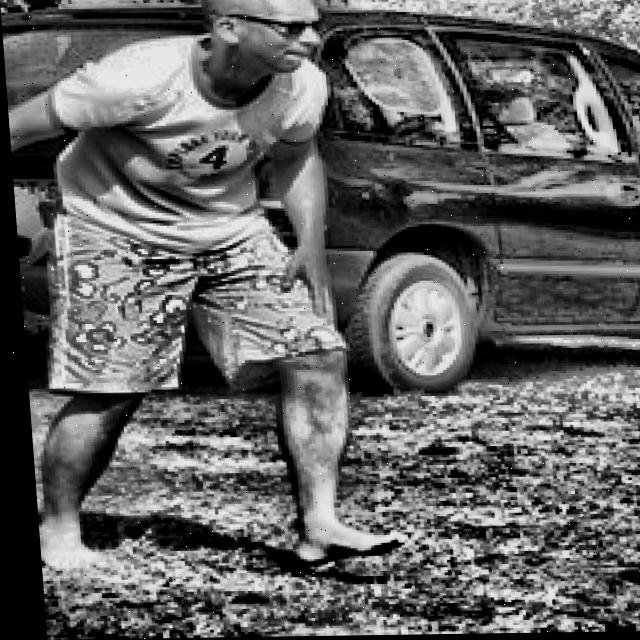light_vehicle: (0, 0, 640, 400)
